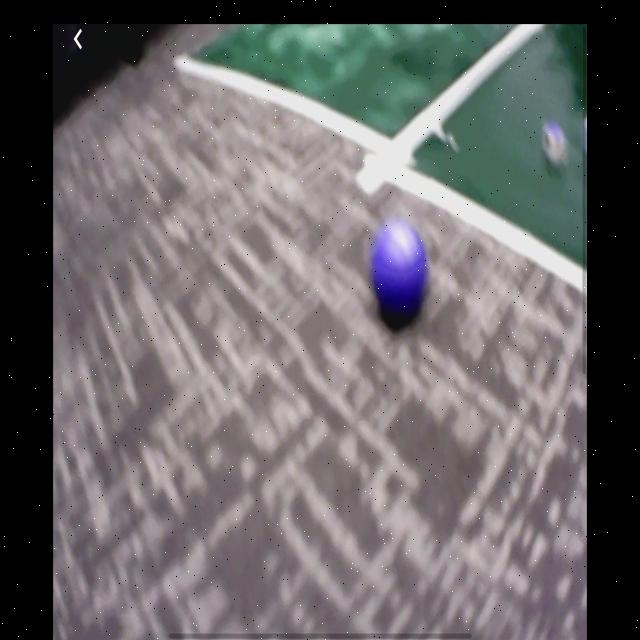ball: (374, 223, 429, 323)
